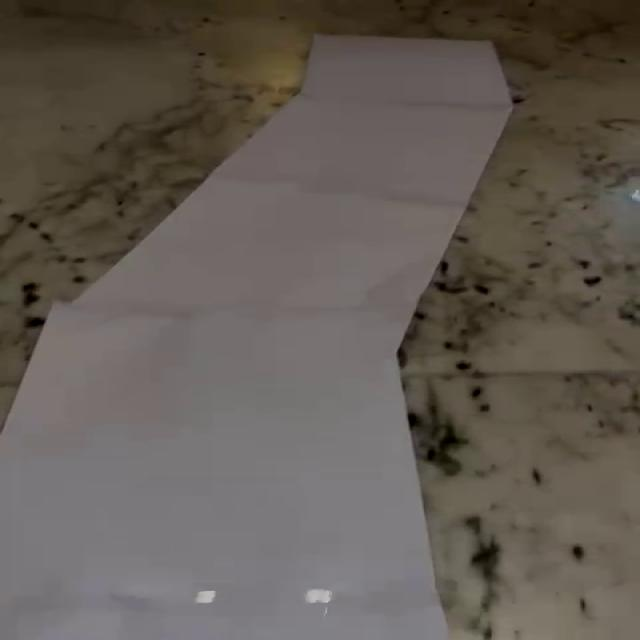road: (3, 33, 512, 640)
